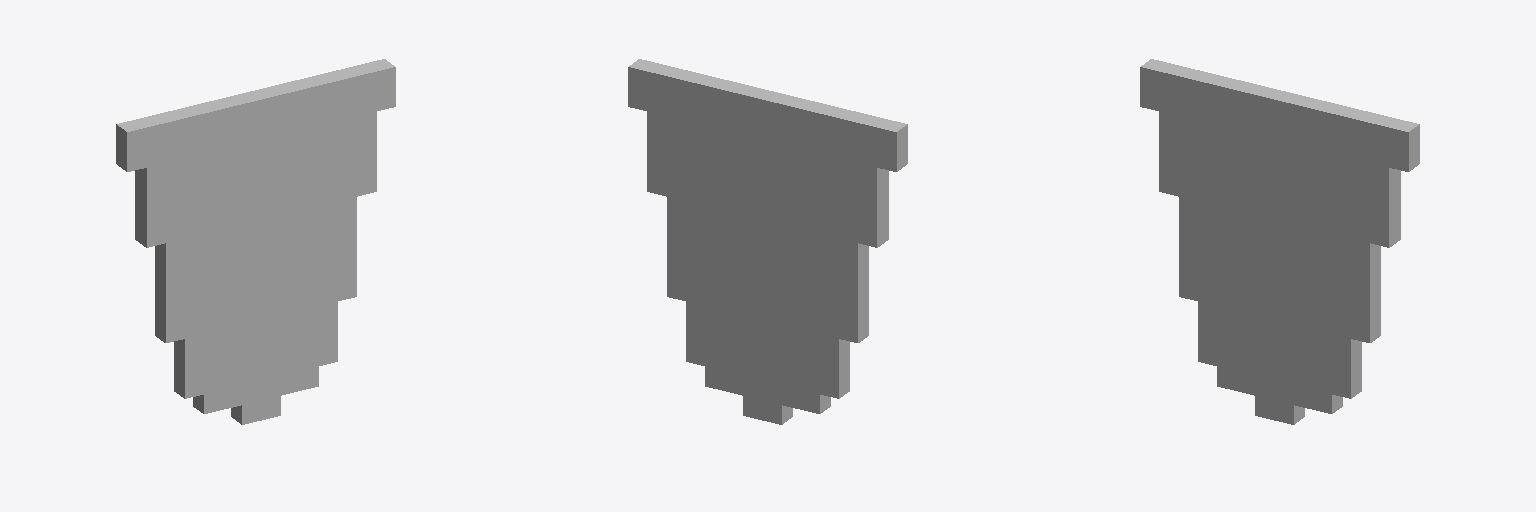
The model's file is knight_of_vaerenth_shield_model.obj.
The picture shows the model from 3 angles: view 1: azimuth 30°, elevation 25°; view 2: azimuth 150°, elevation 25°; view 3: azimuth 330°, elevation 25°; orthographic projection.
Parts seen in each view (by area): view 1: shieldmain, shieldtop1, shieldtop2, shieldleft2, shieldright2, shieldleft1, shieldright1, shieldbottom; view 2: shieldmain, shieldtop1, shieldtop2, shieldleft2, shieldright2, shieldleft1, shieldright1, shieldbottom; view 3: shieldmain, shieldtop1, shieldtop2, shieldright2, shieldleft2, shieldright1, shieldleft1, shieldbottom.
Part boxes in pixels (x1,y1,x2,y2): shieldmain: (193, 206, 318, 413); shieldtop1: (135, 112, 376, 247); shieldtop2: (116, 59, 395, 171); shieldleft2: (155, 234, 203, 342); shieldright2: (319, 197, 356, 305); shieldleft1: (174, 334, 203, 398); shieldright1: (319, 302, 337, 365); shieldbottom: (231, 396, 280, 424); shieldmain: (705, 206, 830, 413); shieldtop1: (647, 112, 888, 247); shieldtop2: (628, 59, 907, 171); shieldleft2: (820, 234, 868, 342); shieldright2: (667, 197, 704, 305); shieldleft1: (820, 334, 849, 398); shieldright1: (686, 302, 704, 365); shieldbottom: (743, 396, 792, 424); shieldmain: (1217, 206, 1342, 413); shieldtop1: (1159, 112, 1400, 247); shieldtop2: (1140, 59, 1419, 171); shieldright2: (1332, 234, 1380, 342); shieldleft2: (1179, 197, 1216, 305); shieldright1: (1332, 334, 1361, 398); shieldleft1: (1198, 302, 1216, 365); shieldbottom: (1255, 396, 1304, 424).
Bounding box in the file's own units: 0.875 × 1 × 0.0625.